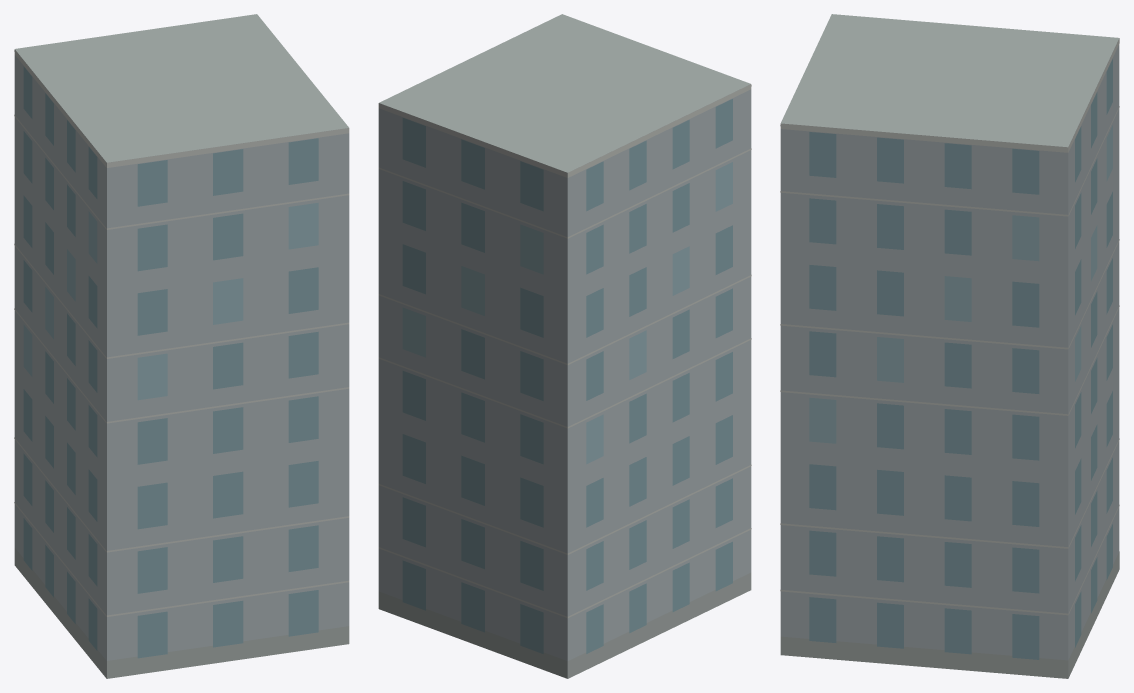
File: survey-upis-33003645.glb
The picture shows the model from 3 angles, left to right: view 1: azimuth 30°, elevation 25°; view 2: azimuth 150°, elevation 25°; view 3: azimuth 270°, elevation 25°; orthographic projection. The views are drawn at different scales.
Visible parts, largest first — view 1: survey-upis-33003645.tmp; view 2: survey-upis-33003645.tmp; view 3: survey-upis-33003645.tmp.
Part boxes in pixels (<box>): survey-upis-33003645.tmp: <box>14,14,349,678</box>; survey-upis-33003645.tmp: <box>378,14,751,678</box>; survey-upis-33003645.tmp: <box>780,14,1119,678</box>.
Bounding box in the file's own units: 12.55 × 23.3 × 13.49.
